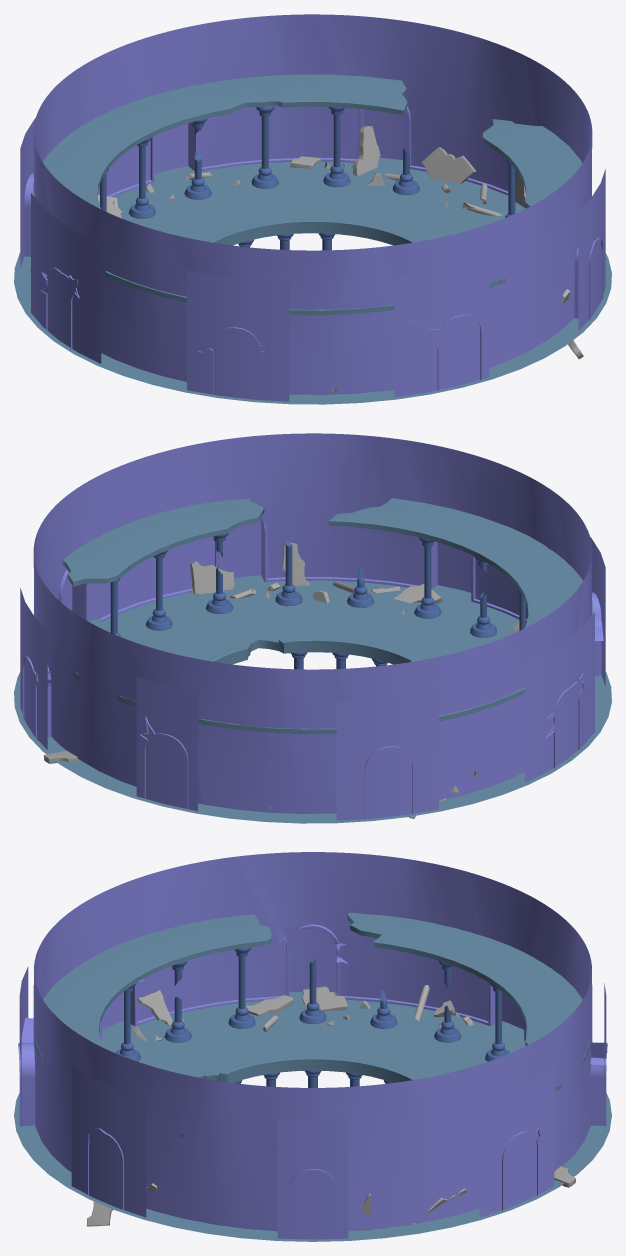
Rendered from ArenaFull 1.fbx.
The picture shows the model from 3 angles, top to bottom: view 1: azimuth 30°, elevation 25°; view 2: azimuth 150°, elevation 25°; view 3: azimuth 270°, elevation 25°; orthographic projection.
Parts seen in each view (by area): view 1: ArenaFull1; view 2: ArenaFull1; view 3: ArenaFull1.
Boxes of the visible parts, left/top/right/bottom form: ArenaFull1: left=14, top=14, right=611, bottom=404; ArenaFull1: left=14, top=433, right=611, bottom=823; ArenaFull1: left=14, top=852, right=611, bottom=1241.
Size of the model in its own units: 192 by 73.88 by 192.
